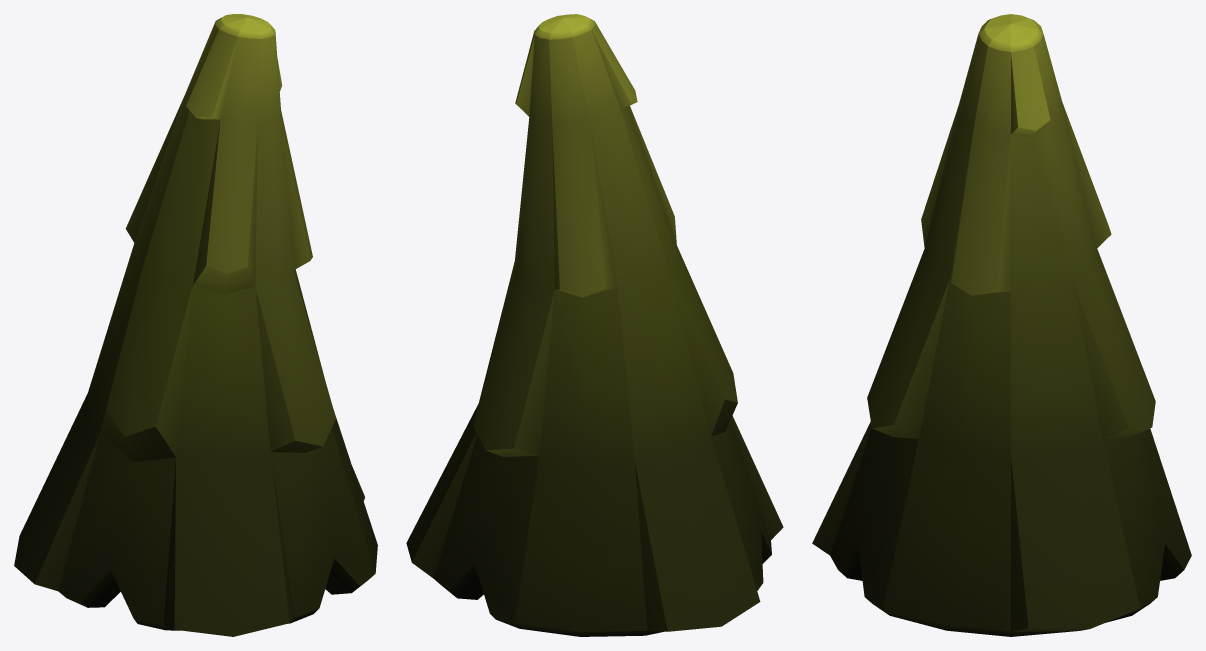
File: Leaves_01B.fbx
3 renders of one model, left to right at view 1: azimuth 30°, elevation 25°; view 2: azimuth 150°, elevation 25°; view 3: azimuth 270°, elevation 25°, orthographic. The views are drawn at different scales.
Visible parts, largest first — view 1: Leaves_01B; view 2: Leaves_01B; view 3: Leaves_01B.
Part boxes in pixels (x1=…): Leaves_01B: x1=14, y1=14, x2=377, y2=636; Leaves_01B: x1=406, y1=14, x2=783, y2=636; Leaves_01B: x1=812, y1=14, x2=1191, y2=636.
Size of the model in its own units: 454 by 711 by 432.
